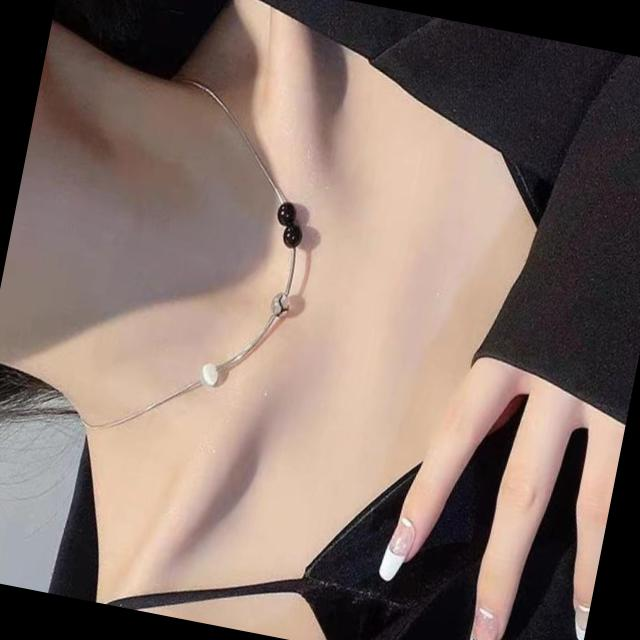Nail: (381, 517, 415, 577), (470, 609, 504, 640), (576, 605, 589, 640)
